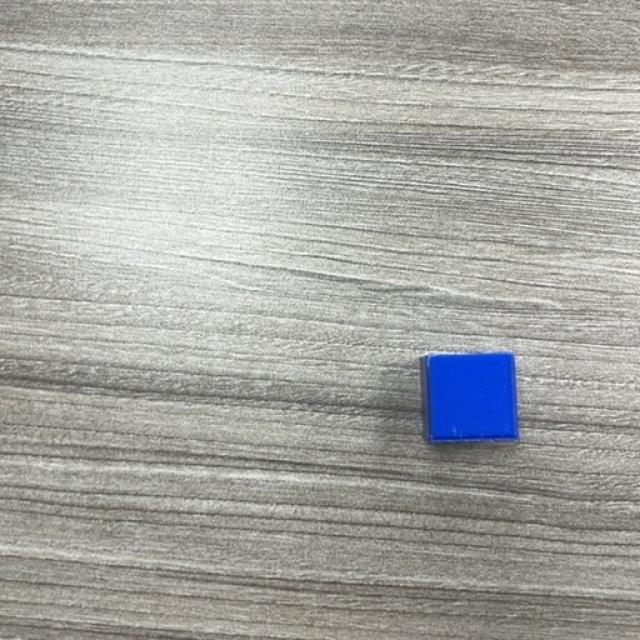Azul: (419, 354, 518, 445)
